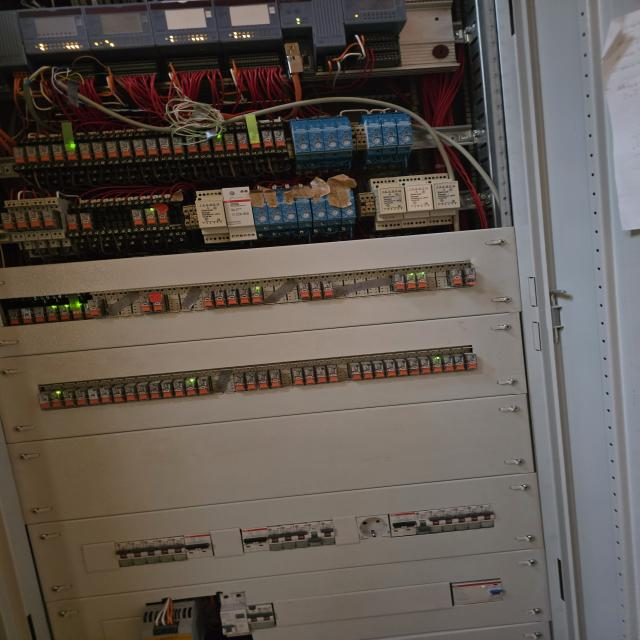Dimmer: (396, 175, 434, 228), (422, 173, 460, 226), (371, 177, 408, 230), (195, 190, 231, 244), (222, 187, 257, 241), (279, 192, 298, 230), (266, 192, 284, 231), (292, 124, 311, 155), (253, 197, 270, 231), (381, 117, 399, 149), (396, 116, 414, 148), (336, 120, 353, 152), (322, 122, 339, 153), (367, 118, 384, 149), (295, 197, 312, 228), (310, 196, 327, 227), (325, 194, 341, 226), (341, 191, 356, 225), (308, 123, 324, 154)
FI: (452, 579, 503, 605)
FI_Sicherungskombi: (219, 591, 251, 637)
Leitungsschutzschalter: (257, 603, 276, 629), (142, 539, 161, 564), (245, 605, 263, 630), (115, 542, 133, 567), (170, 536, 188, 561), (129, 541, 147, 565), (157, 537, 174, 562), (184, 534, 201, 559), (241, 528, 258, 553), (280, 524, 296, 550), (320, 520, 336, 546), (197, 533, 214, 557), (267, 526, 283, 551), (293, 523, 309, 548), (415, 510, 431, 535), (427, 509, 443, 534), (466, 505, 482, 530), (307, 521, 322, 547), (389, 513, 405, 537), (453, 507, 469, 531), (441, 508, 456, 533), (479, 504, 494, 529), (255, 527, 270, 551), (402, 512, 417, 536)
Relais: (42, 209, 63, 229), (152, 203, 169, 225), (14, 209, 30, 230), (88, 300, 106, 318), (150, 295, 167, 313), (0, 212, 16, 231), (80, 212, 95, 232), (28, 209, 43, 229), (447, 269, 463, 287), (144, 207, 158, 227), (391, 274, 406, 292), (131, 209, 145, 228), (124, 383, 138, 402), (136, 382, 150, 401), (273, 128, 286, 148), (132, 139, 146, 157), (213, 289, 227, 307), (250, 286, 264, 304), (50, 390, 64, 408), (62, 389, 76, 407), (112, 385, 126, 403), (348, 362, 362, 380), (430, 355, 444, 373), (406, 357, 420, 375), (146, 138, 159, 157), (236, 132, 249, 151), (148, 380, 161, 399), (268, 369, 281, 388), (383, 360, 397, 377), (13, 147, 26, 165), (52, 144, 65, 162), (65, 143, 78, 161), (79, 143, 92, 161), (92, 142, 105, 160), (119, 140, 132, 158), (106, 141, 119, 159), (261, 130, 274, 148), (321, 280, 334, 298), (297, 282, 310, 300), (463, 268, 476, 286), (75, 388, 88, 406), (99, 386, 112, 404), (160, 380, 173, 398), (302, 367, 315, 385), (360, 361, 373, 379), (396, 358, 409, 376), (442, 354, 455, 372), (39, 144, 51, 163), (224, 133, 236, 152), (202, 290, 214, 309), (185, 377, 197, 396), (233, 373, 245, 392), (67, 214, 80, 231), (46, 305, 59, 322), (226, 289, 239, 306), (291, 368, 304, 385), (314, 366, 327, 383), (326, 365, 339, 382), (26, 145, 38, 163), (159, 138, 171, 156), (39, 392, 51, 410), (198, 377, 210, 395), (173, 379, 185, 397), (245, 372, 257, 390), (257, 371, 269, 389), (373, 360, 385, 378), (419, 356, 431, 374), (8, 309, 21, 325), (33, 307, 46, 323), (249, 132, 261, 149), (172, 138, 184, 155), (140, 296, 152, 313), (87, 388, 99, 405), (465, 353, 477, 370), (416, 272, 427, 290), (186, 137, 198, 153), (21, 308, 33, 324), (71, 304, 83, 320), (213, 135, 224, 152), (239, 288, 250, 305), (310, 282, 321, 299), (454, 354, 465, 371), (199, 138, 211, 153), (406, 273, 416, 291), (59, 305, 70, 321)
SPS_System_Steuerungskomponente: (83, 2, 156, 49), (18, 8, 91, 53), (148, 0, 220, 45), (213, 0, 284, 41), (278, 0, 344, 28), (341, 0, 407, 24)
Verbinder: (358, 192, 376, 217), (183, 205, 200, 230), (351, 125, 367, 150)
